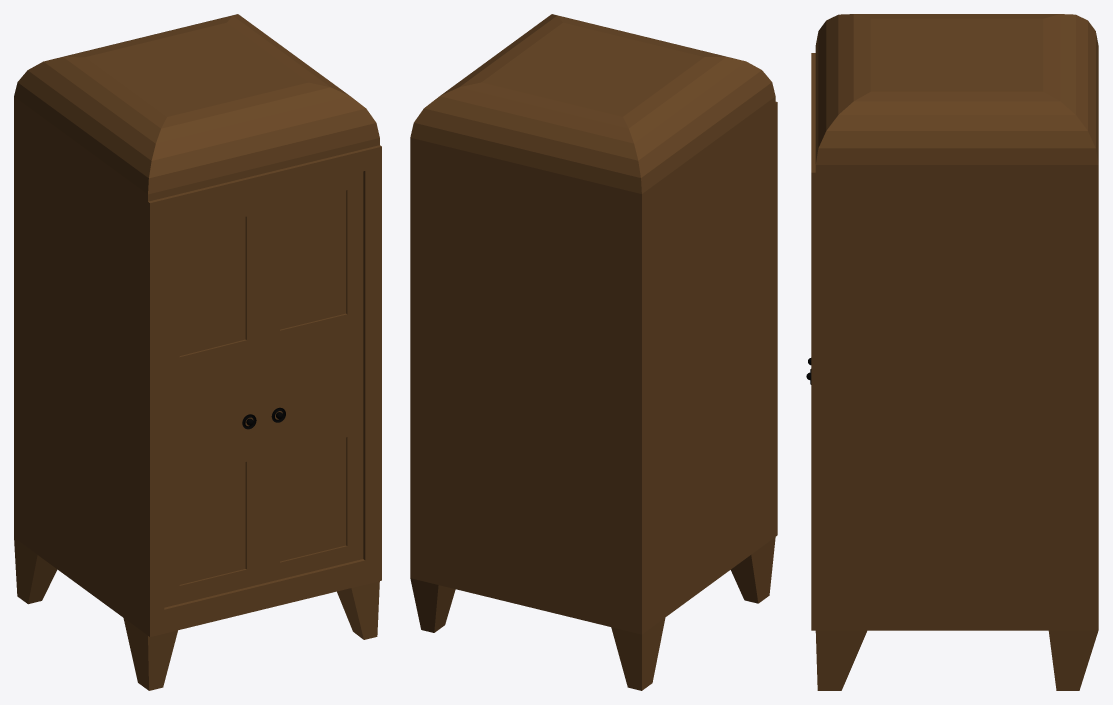
File: armário1.fbx
3 renders of one model, left to right at view 1: azimuth 30°, elevation 25°; view 2: azimuth 150°, elevation 25°; view 3: azimuth 270°, elevation 25°, orthographic. The views are drawn at different scales.
Visible parts, largest first — view 1: Cube.009; view 2: Cube.009; view 3: Cube.009.
Boxes of the visible parts, <box> form: Cube.009: <box>14,14,381,690</box>; Cube.009: <box>410,14,777,690</box>; Cube.009: <box>806,14,1098,690</box>.
Bounding box in the file's own units: 81.12 × 183 × 83.78.
